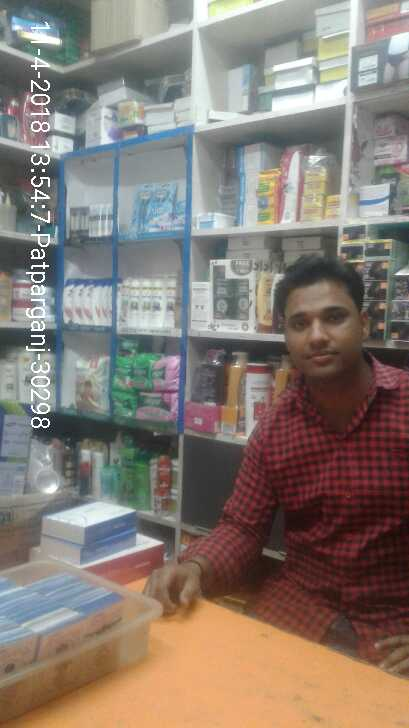venus: (130, 183, 154, 230), (154, 183, 173, 230), (173, 200, 185, 231)
